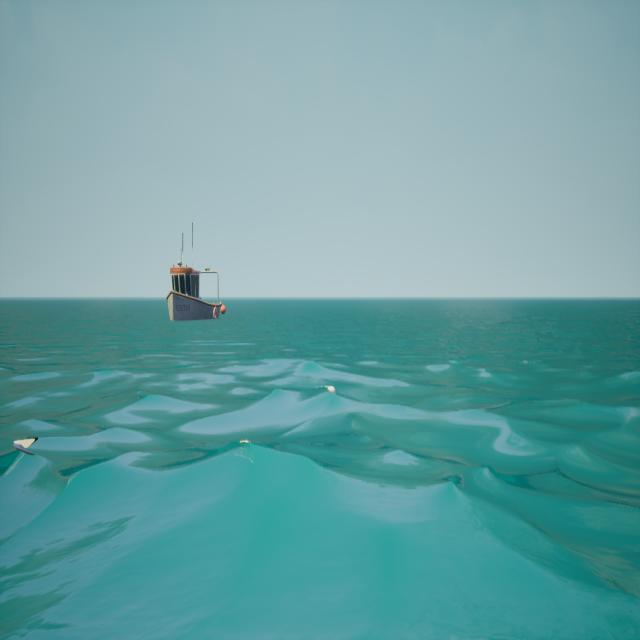ship: (168, 221, 227, 329)
